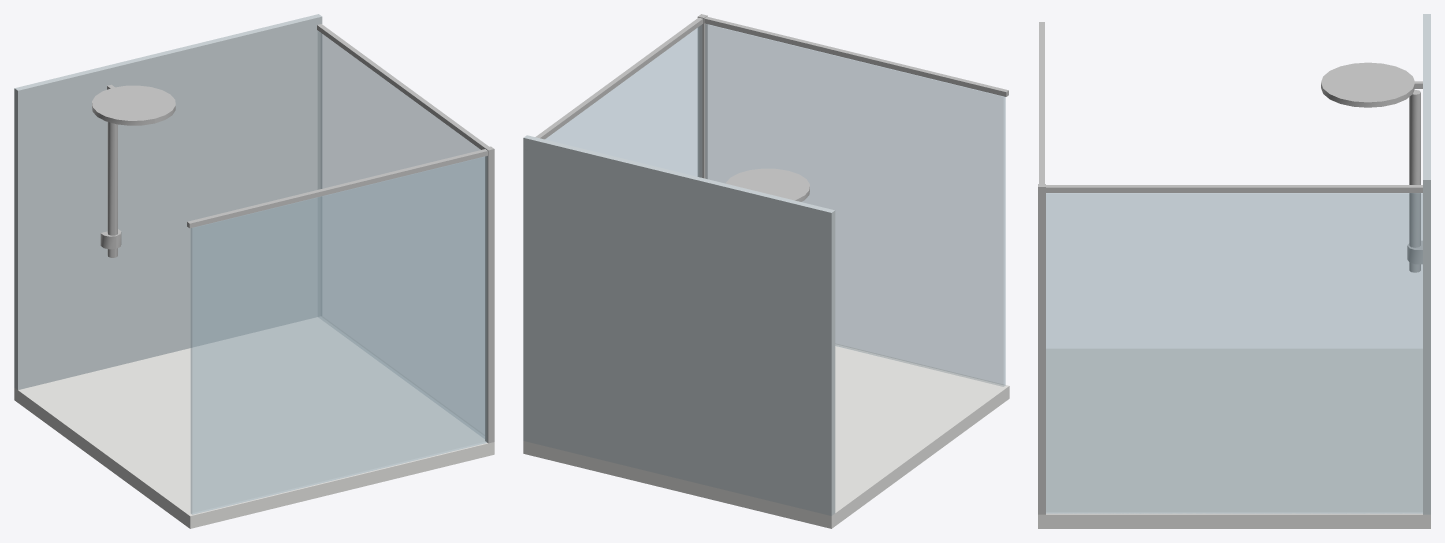
File: shower.gltf
3 renders of one model, left to right at view 1: azimuth 30°, elevation 25°; view 2: azimuth 150°, elevation 25°; view 3: azimuth 270°, elevation 25°, orthographic. The views are drawn at different scales.
Visible parts, largest first — view 1: back_wall, glass_front, tray, glass_side, post, head, rail_front, rail_side, riser; view 2: back_wall, glass_front, tray, glass_side, rail_front, head, post, rail_side; view 3: glass_side, tray, back_wall, head, rail_side, post, riser, rail_front.
Part boxes in pixels (x1=…): back_wall: x1=14, y1=14, x2=322, y2=389; glass_front: x1=190, y1=156, x2=487, y2=514; tray: x1=14, y1=316, x2=494, y2=528; glass_side: x1=318, y1=31, x2=484, y2=438; post: x1=485, y1=146, x2=494, y2=443; head: x1=92, y1=85, x2=175, y2=125; rail_front: x1=187, y1=149, x2=487, y2=228; rail_side: x1=317, y1=24, x2=490, y2=155; riser: x1=107, y1=122, x2=117, y2=257; back_wall: x1=523, y1=135, x2=835, y2=515; glass_front: x1=705, y1=24, x2=1005, y2=386; tray: x1=523, y1=343, x2=1009, y2=528; glass_side: x1=545, y1=25, x2=701, y2=177; rail_front: x1=704, y1=16, x2=1008, y2=96; head: x1=725, y1=168, x2=809, y2=201; post: x1=697, y1=14, x2=707, y2=178; rail_side: x1=525, y1=17, x2=703, y2=149; glass_side: x1=1046, y1=193, x2=1422, y2=513; tray: x1=1038, y1=348, x2=1430, y2=528; back_wall: x1=1423, y1=14, x2=1430, y2=514; head: x1=1321, y1=62, x2=1414, y2=107; rail_side: x1=1046, y1=185, x2=1422, y2=192; post: x1=1038, y1=184, x2=1045, y2=514; riser: x1=1409, y1=90, x2=1420, y2=272; rail_front: x1=1039, y1=22, x2=1044, y2=193.
Bounding box in the file's own units: 1 × 0.98 × 1.
